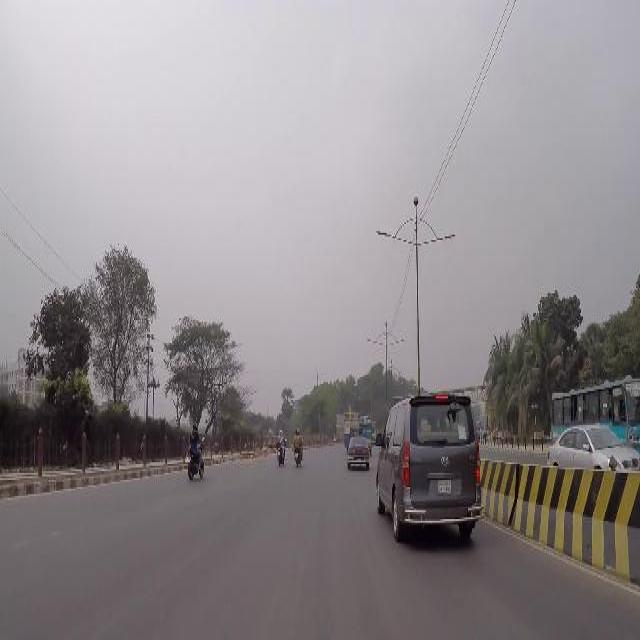10: (184, 419, 206, 481), (292, 428, 304, 468), (276, 425, 286, 467)
5: (546, 423, 638, 480), (346, 434, 370, 469)
9: (374, 391, 484, 541)
Truck: (549, 371, 637, 440)
